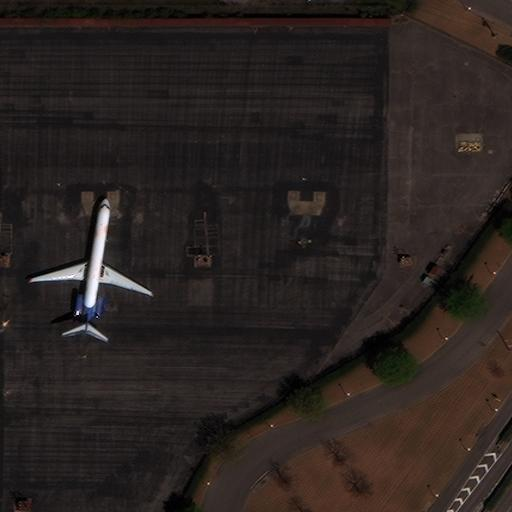Medium Civil Transport: (29, 197, 152, 336)
